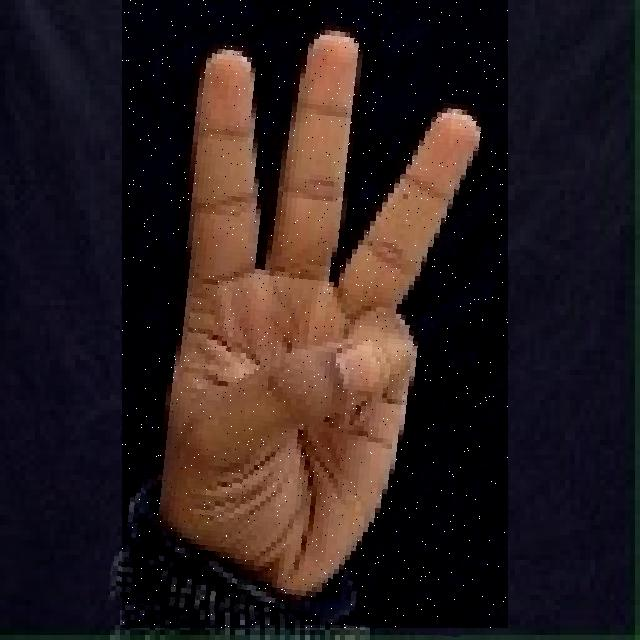Please: (122, 0, 508, 628)
